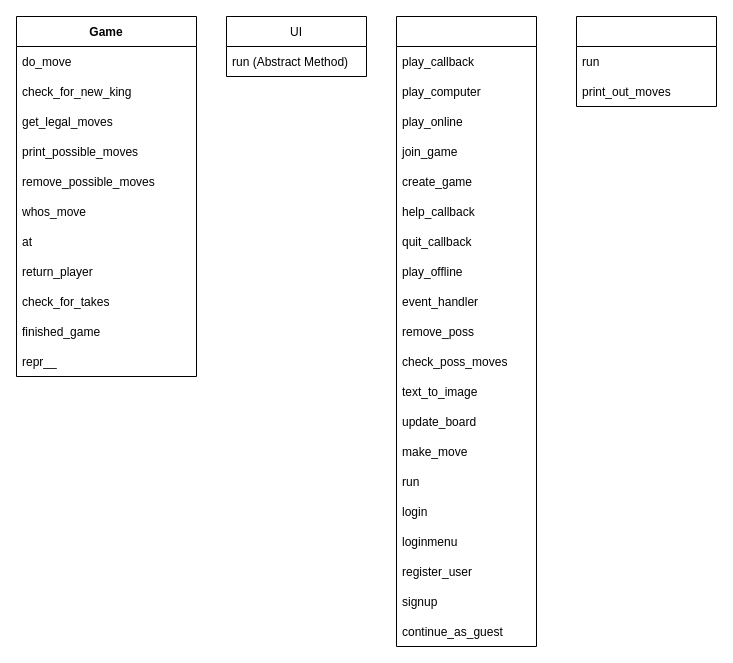
Image size: 733x663. Some labels were removed from this diagram. The shapes that lost their labels are listed below. From the top down, each one's box as (x1, y1, x2, y2) in pixels, then its label:
(576, 16, 716, 106): Terminal(UI)
(396, 16, 536, 646): GUI(UI)
